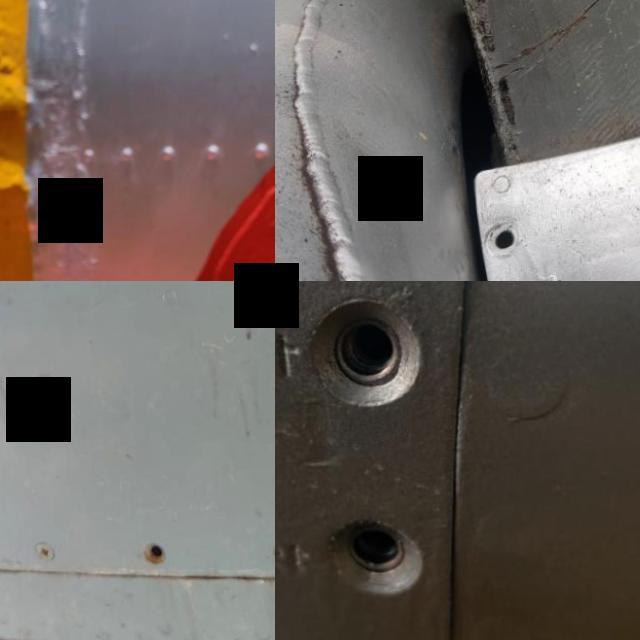Dent: (0, 72, 84, 232)
Missing_Fastener: (275, 281, 476, 461), (275, 472, 475, 640), (466, 210, 540, 278), (126, 528, 186, 585), (255, 530, 275, 589)
